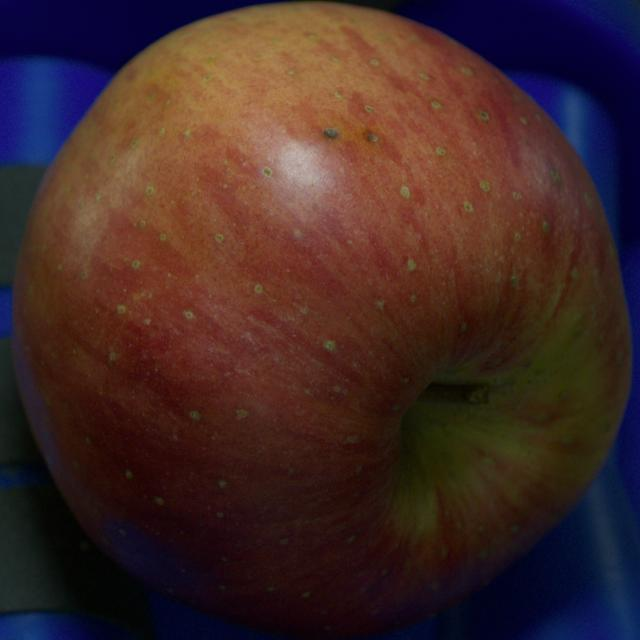apple: (12, 3, 631, 638)
pest: (324, 128, 339, 139), (368, 134, 377, 141)
